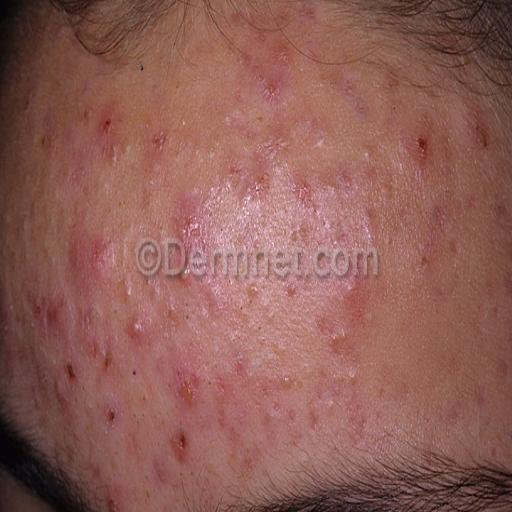Skin_Lesion: (311, 162, 379, 257), (225, 158, 287, 222), (71, 240, 111, 291), (37, 282, 70, 343), (256, 53, 291, 105), (192, 272, 226, 324), (173, 356, 200, 412), (144, 126, 171, 176), (406, 117, 433, 167), (274, 357, 302, 405), (177, 208, 206, 252), (101, 395, 124, 437), (126, 306, 150, 345), (36, 118, 60, 156), (470, 117, 492, 158), (243, 278, 262, 322), (173, 425, 191, 467), (61, 359, 81, 395), (172, 258, 192, 292), (99, 106, 117, 142), (102, 340, 118, 376), (154, 454, 170, 487), (284, 278, 300, 310), (108, 488, 124, 512), (92, 461, 104, 484), (489, 442, 500, 463)
